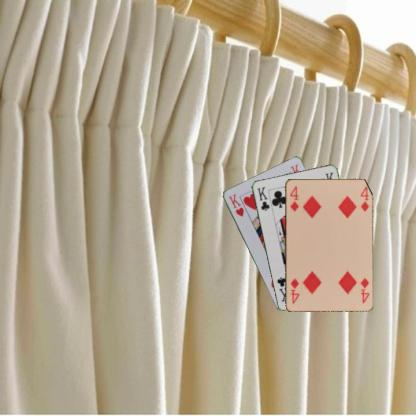4d: (287, 183, 300, 212), (358, 275, 370, 304)
Kc: (254, 184, 271, 212)
Kh: (226, 191, 245, 218)
